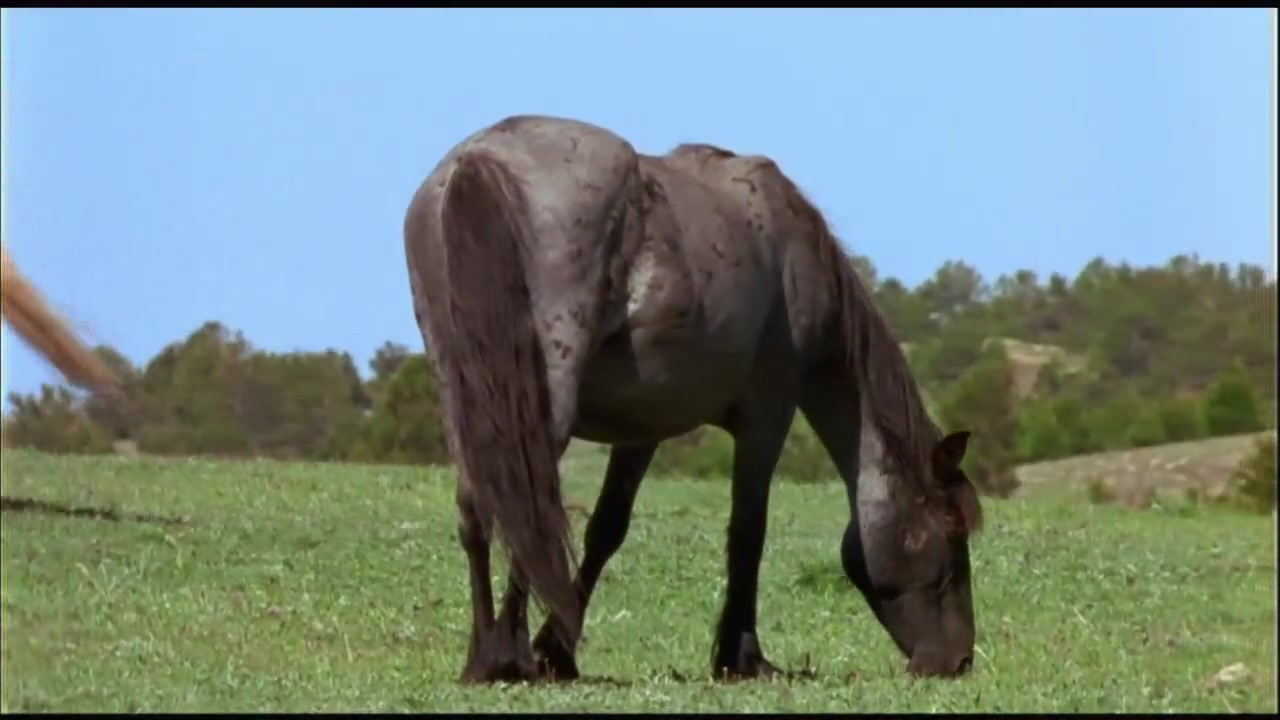horse: (404, 113, 984, 684)
